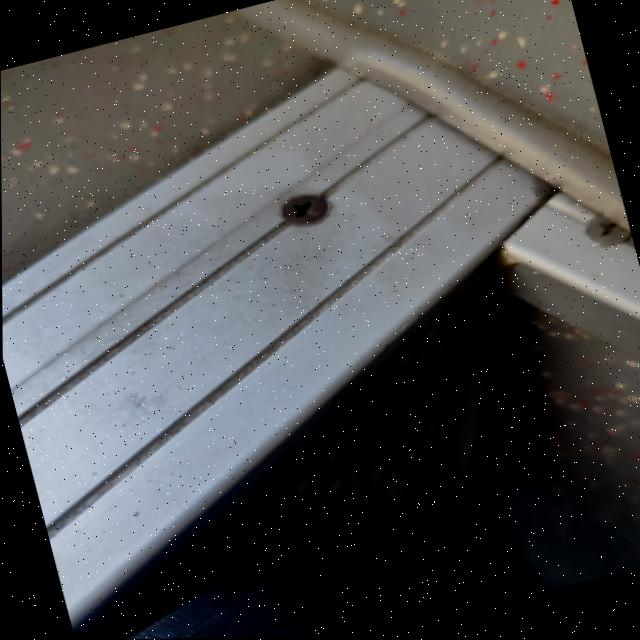Phillips: (269, 184, 342, 243)
